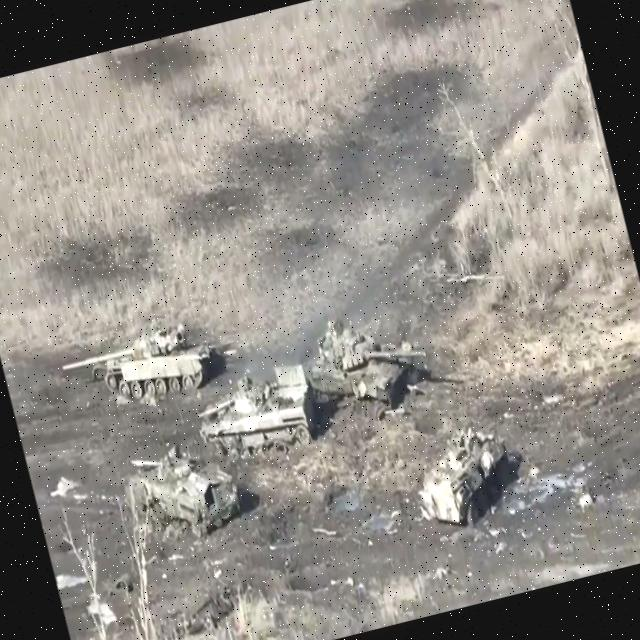AIFV: (191, 363, 324, 471), (124, 435, 245, 542)
APC: (407, 423, 524, 540)
MBT: (59, 317, 222, 420), (299, 304, 439, 423)
